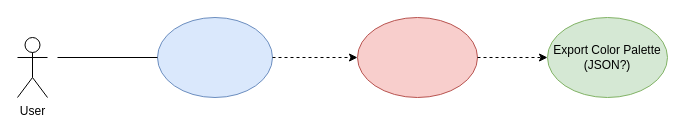
Some shapes in this 685 by 136 pixel diagram are drawn without their labels. Each missing label, with the box of its shape:
Create Color Palette: (356, 16, 478, 98)
Upload Image (png): (156, 16, 272, 98)
